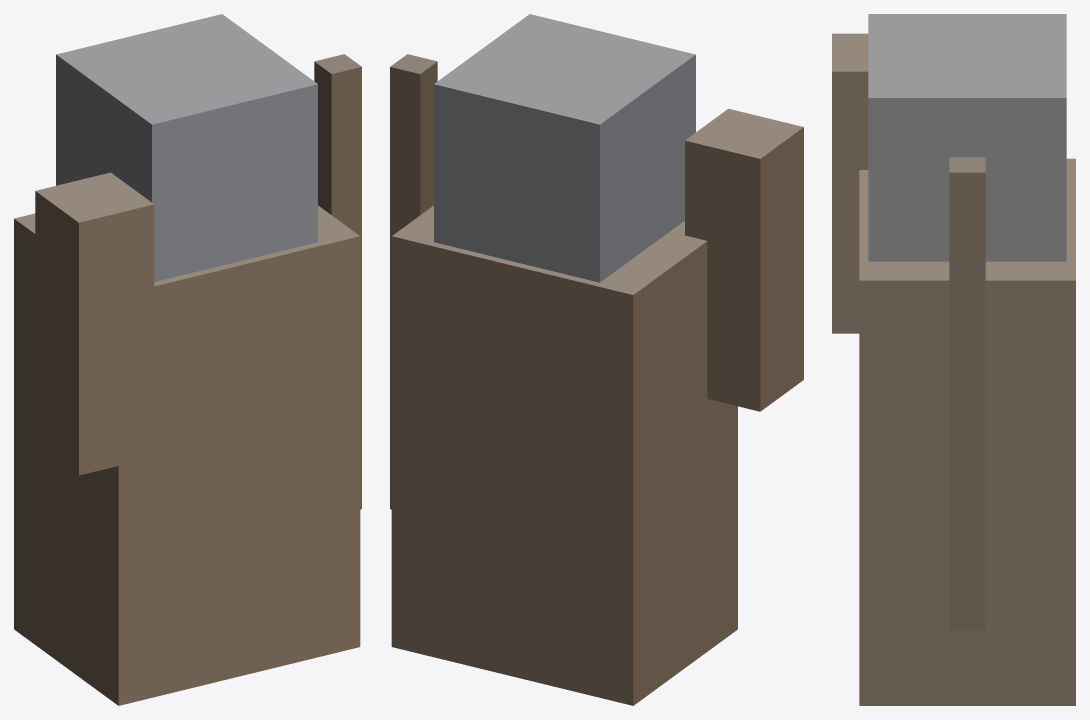
The model's file is archer.gltf.
The picture shows the model from 3 angles, left to right: view 1: azimuth 30°, elevation 25°; view 2: azimuth 150°, elevation 25°; view 3: azimuth 270°, elevation 25°; orthographic projection. The views are drawn at different scales.
Visible parts, largest first — view 1: unit-archer; view 2: unit-archer; view 3: unit-archer.
Boxes of the visible parts, x1,y1,x2,y2 form: unit-archer: [14, 14, 361, 705]; unit-archer: [390, 14, 803, 705]; unit-archer: [832, 14, 1075, 705].
Size of the model in its own units: 0.225 by 0.36 by 0.135.
